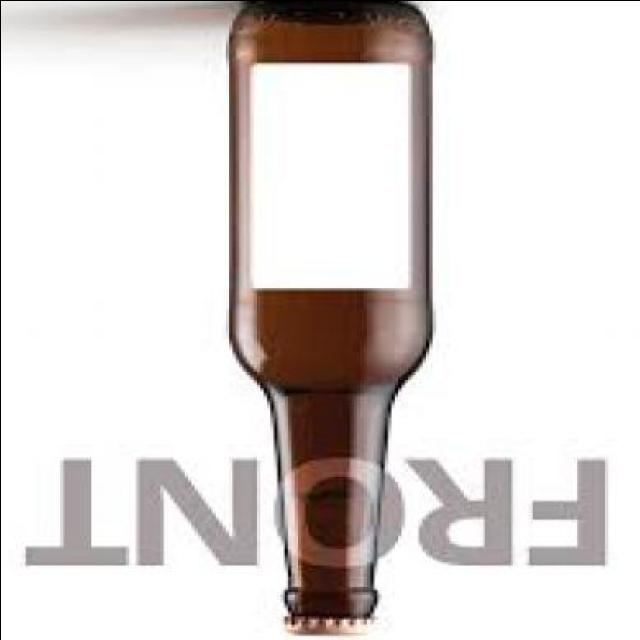kaca: (231, 1, 435, 618)
